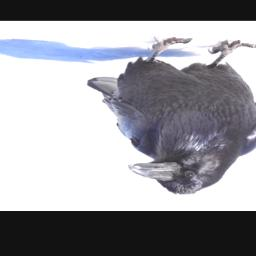Crow: (81, 35, 256, 198)
